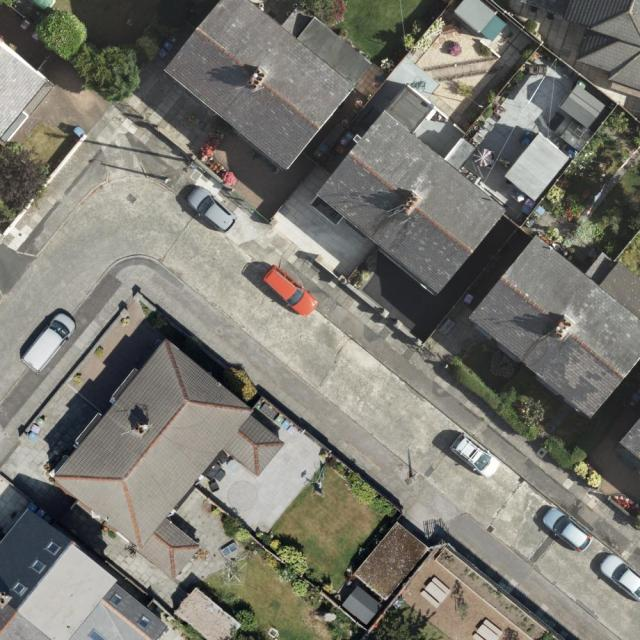roof: (44, 338, 286, 581), (161, 0, 379, 174), (315, 112, 509, 298), (459, 239, 640, 430), (0, 506, 172, 640), (561, 0, 640, 93), (0, 33, 51, 138)
skylight: (41, 539, 67, 559), (9, 578, 31, 599), (27, 557, 49, 576), (106, 592, 128, 608), (86, 628, 108, 640), (136, 615, 151, 630)
